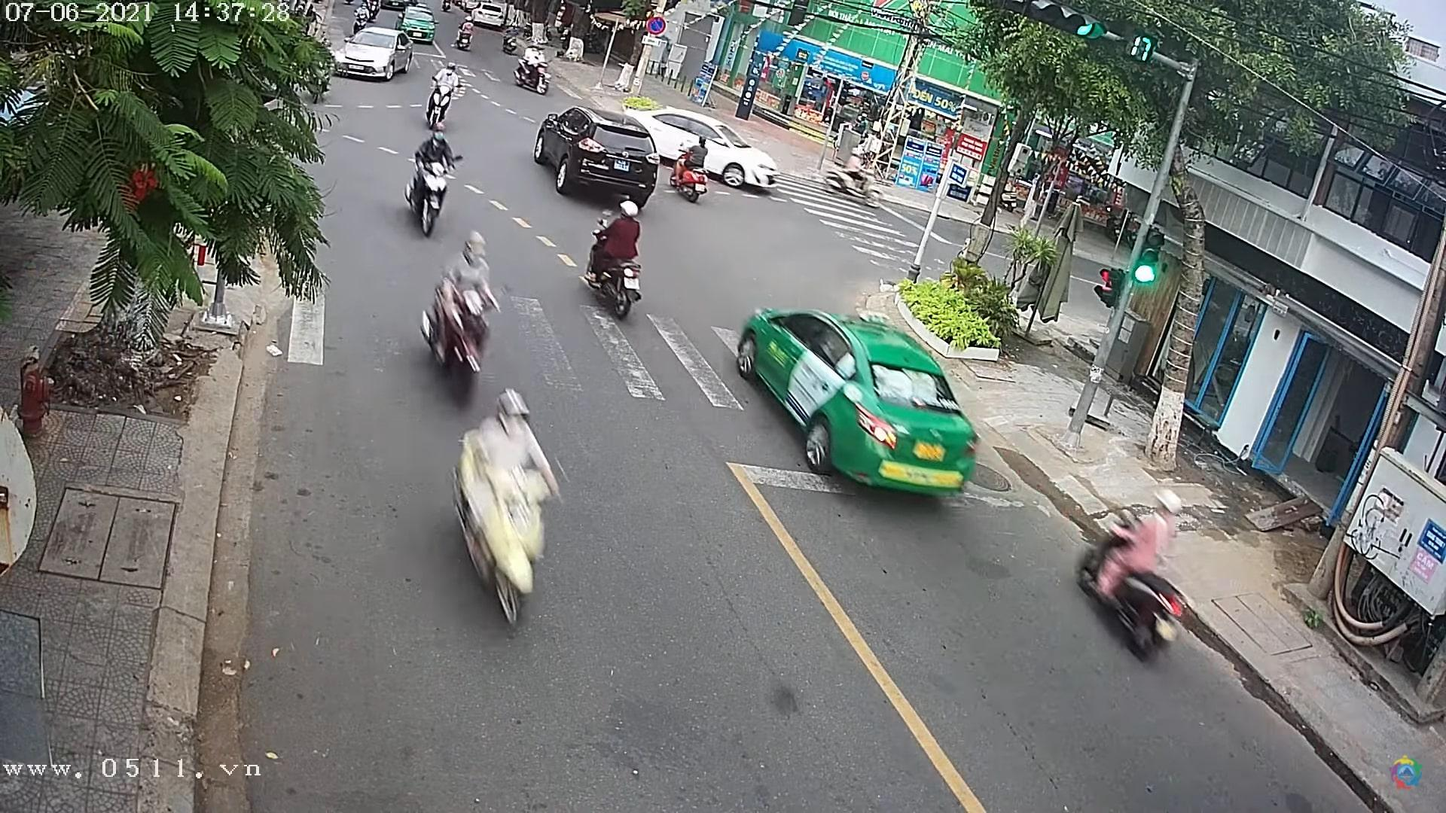car: (334, 30, 408, 81)
motorbike: (448, 405, 563, 624), (415, 238, 504, 392), (403, 142, 459, 237), (423, 76, 458, 130), (514, 59, 550, 93)
